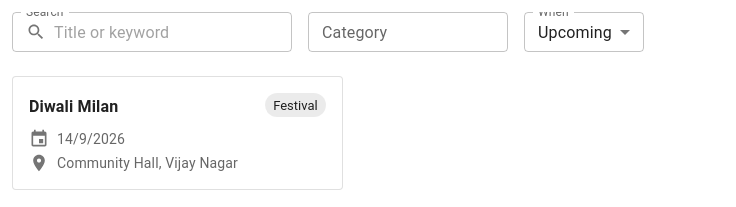
BrowseEventsTab › switching to Past shows past published events instead
Expected: the heading "Diwali Milan" is shown, left=29, top=93, right=118, bottom=121
Click the dropdown named "when". click: coordinates (575, 32)
box: left=538, top=22, right=612, bottom=42
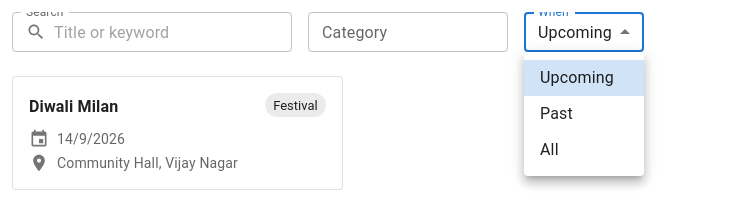
Click the option "Past". click: coordinates (556, 114)
box: left=540, top=104, right=573, bottom=123
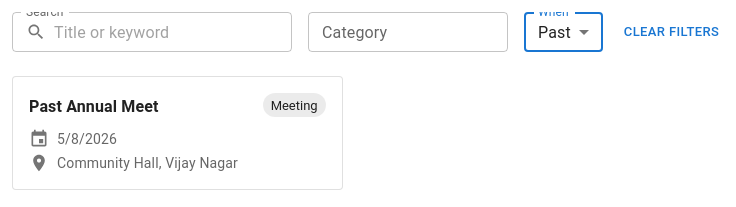
Expected: the heading "Past Annual Meet" is shown, left=29, top=93, right=159, bottom=121
Expected: the button "Diwali Milan" is gone
